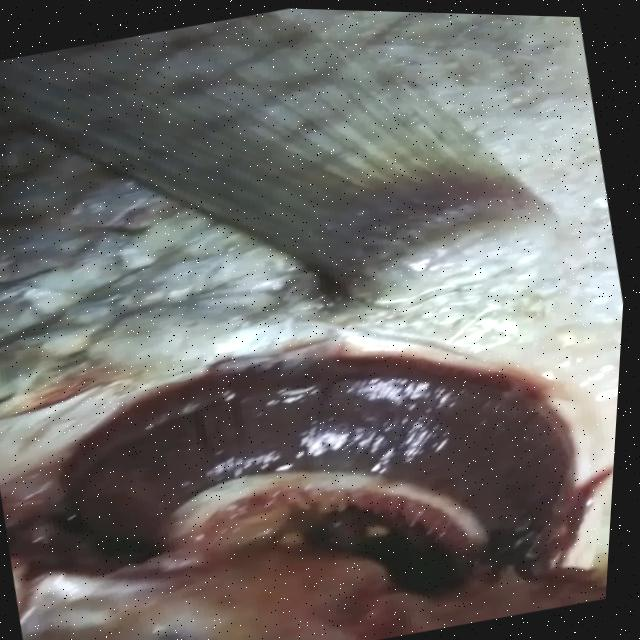Non-Fresh: (0, 233, 629, 640)
